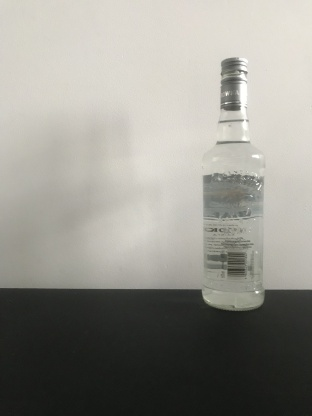nakretka: (219, 55, 248, 111)
